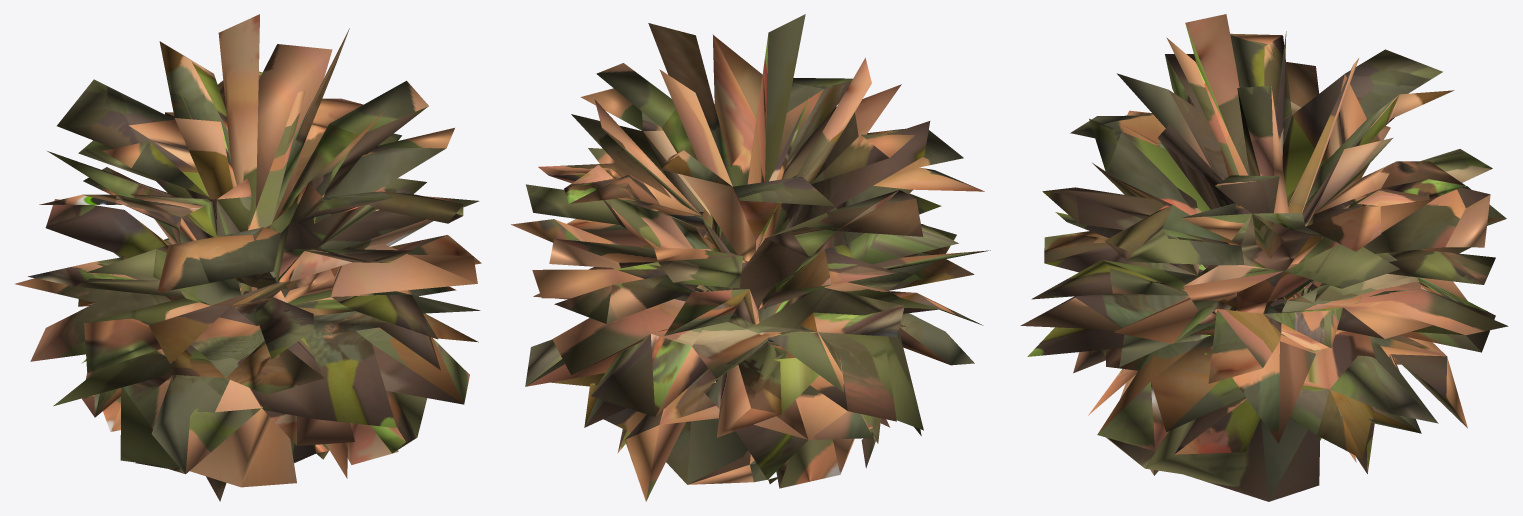
File: bushCollider.fbx
3 renders of one model, left to right at view 1: azimuth 30°, elevation 25°; view 2: azimuth 150°, elevation 25°; view 3: azimuth 270°, elevation 25°, orthographic. The views are drawn at different scales.
Parts seen in each view (by area): view 1: Mesh1; view 2: Mesh1; view 3: Mesh1.
Boxes of the visible parts, x1,y1,x2,y2 form: Mesh1: [15, 14, 481, 501]; Mesh1: [511, 14, 990, 501]; Mesh1: [1020, 14, 1508, 501].
Bounding box in the file's own units: 191 × 181 × 193.
